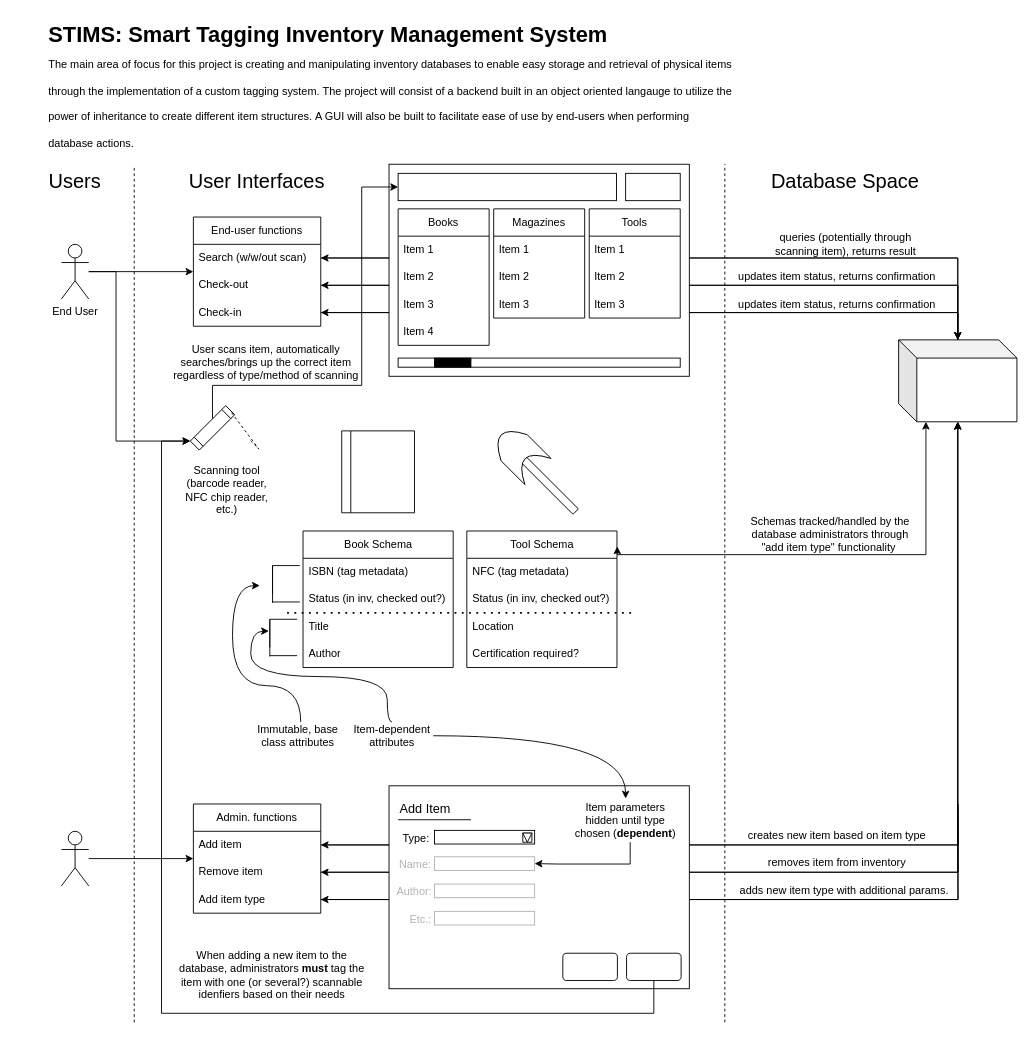
The diagram is 1033 pixels wide and 1039 high, and some of its shapes have lost their labels. The centre of each missing label's shape, as x and y in pixels:
Add: pixel 653 966
Cancel: pixel 589 966
Database Administrator: pixel 75 858
Inventory Database: pixel 957 380
Lorem Ipsum: pixel 378 471
Search: pixel 652 186
